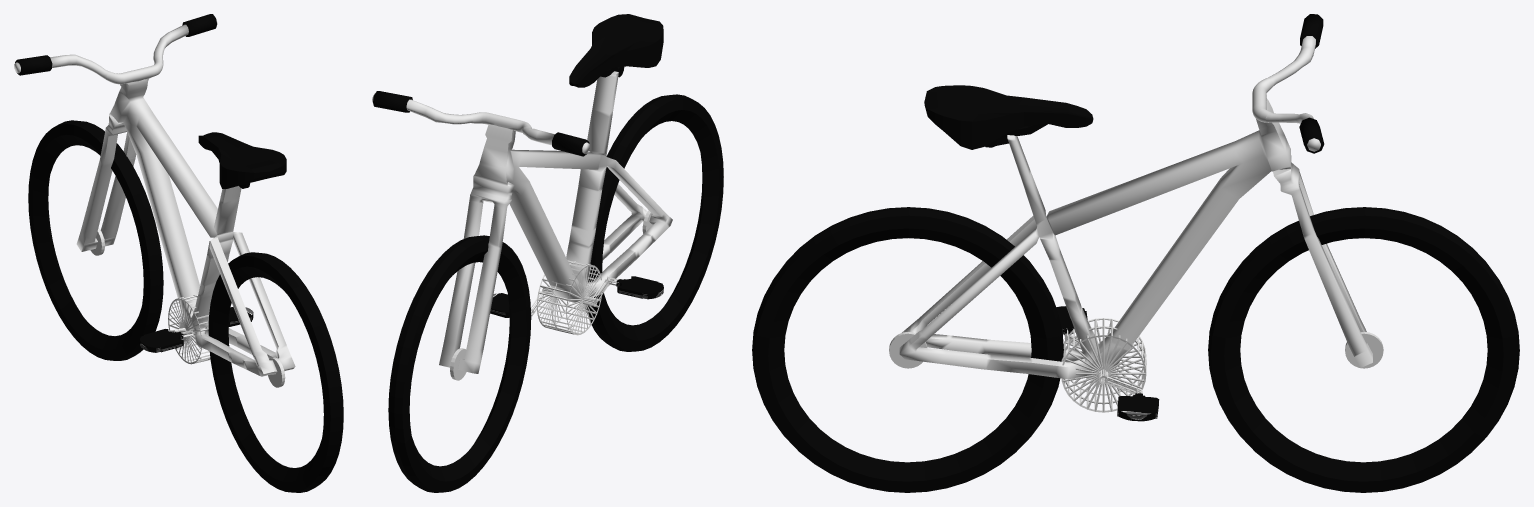
Rendered from Bicicleta.fbx.
3 renders of one model, left to right at view 1: azimuth 30°, elevation 25°; view 2: azimuth 150°, elevation 25°; view 3: azimuth 270°, elevation 25°, orthographic. The views are drawn at different scales.
Visible parts, largest first — view 1: Object, Rueda 1, Rueda 2, Pedal.001; view 2: Object, Rueda 1, Rueda 2, Pedal.001; view 3: Object, Rueda 1, Rueda 2, Pedal.001.
Boxes of the visible parts, x1,y1,x2,y2 form: Object: [14, 14, 295, 376]; Rueda 1: [28, 120, 163, 360]; Rueda 2: [208, 252, 343, 492]; Pedal.001: [140, 295, 253, 364]; Object: [372, 14, 672, 373]; Rueda 1: [388, 235, 531, 492]; Rueda 2: [585, 94, 723, 351]; Pedal.001: [490, 260, 663, 335]; Object: [899, 14, 1372, 378]; Rueda 1: [1208, 207, 1519, 492]; Rueda 2: [752, 207, 1063, 492]; Pedal.001: [1056, 306, 1159, 421].
Size of the model in its own units: 171 by 272 by 454.
Materials: 3 (1 with a texture image).
